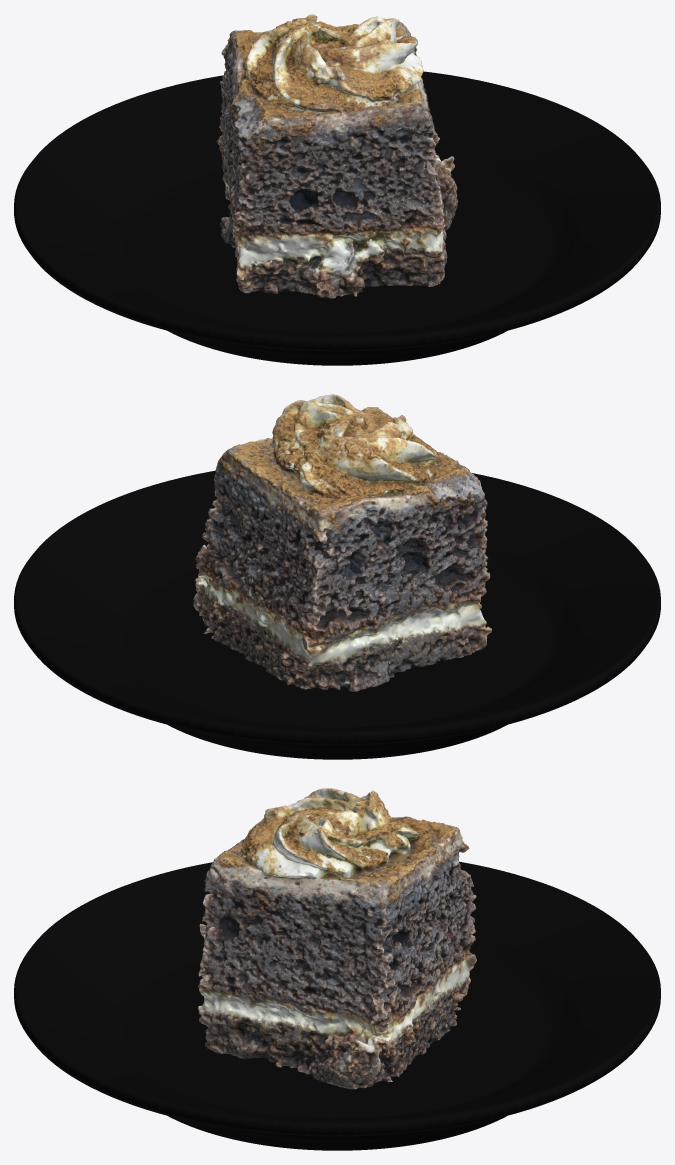
Rendered from 4_cubecake.glb.
3 renders of one model, top to bottom at view 1: azimuth 30°, elevation 25°; view 2: azimuth 150°, elevation 25°; view 3: azimuth 270°, elevation 25°, orthographic.
Parts seen in each view (by area): view 1: Tarelka, 01.05.23_txtmesh_export_obj_cut; view 2: Tarelka, 01.05.23_txtmesh_export_obj_cut; view 3: Tarelka, 01.05.23_txtmesh_export_obj_cut.
Boxes of the visible parts, x1,y1,x2,y2 form: Tarelka: (14, 71, 660, 365); 01.05.23_txtmesh_export_obj_cut: (217, 14, 458, 298); Tarelka: (14, 470, 660, 759); 01.05.23_txtmesh_export_obj_cut: (193, 394, 491, 691); Tarelka: (14, 861, 660, 1150); 01.05.23_txtmesh_export_obj_cut: (198, 788, 476, 1089).
Bounding box in the file's own units: 0.0707 × 0.0305 × 0.0707.
2 materials, 1 textured.
